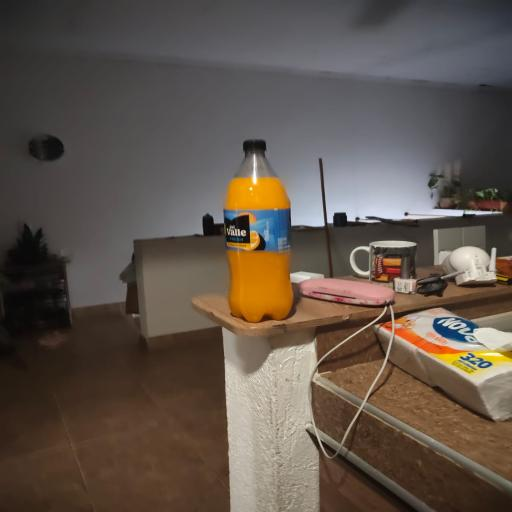Jugo del valle: (205, 138, 314, 323)
